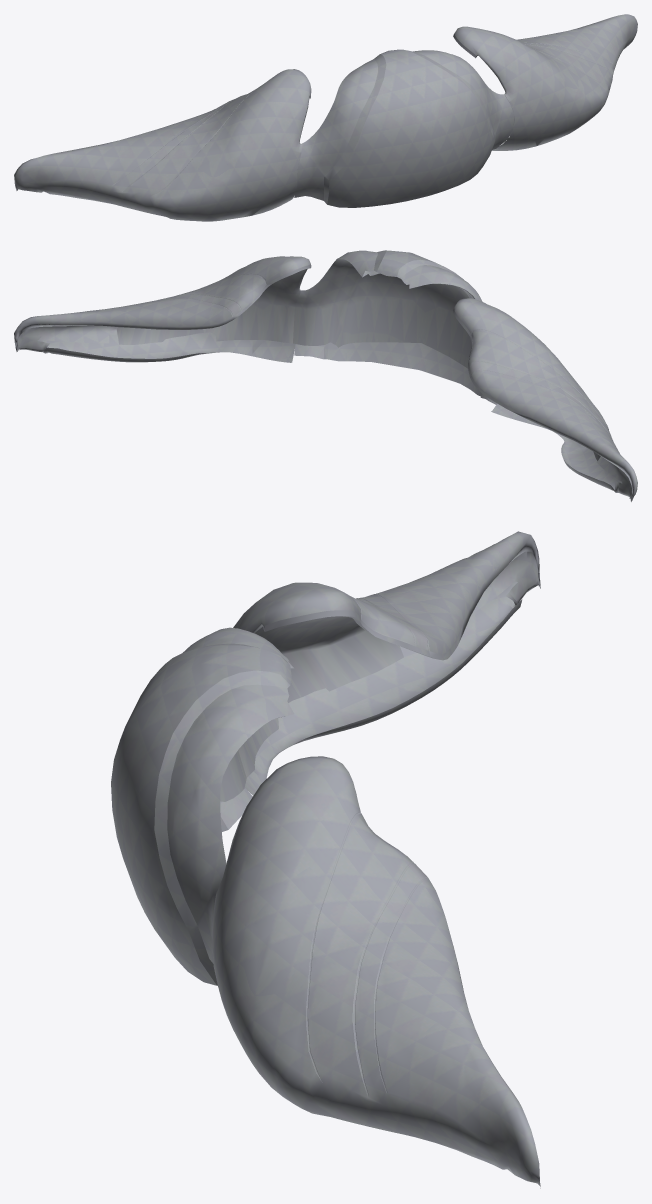
Rendered from pref_sm_beach_bk_winter_pointmol_topbuild02_lv2.fbx.
3 views of the same model, one above another, from view 1: azimuth 30°, elevation 25°; view 2: azimuth 150°, elevation 25°; view 3: azimuth 270°, elevation 25° (orthographic). The views are drawn at different scales.
Visible parts, largest first — view 1: sm_beach_bk_winter_pointmol_topbuild02a_lv2; view 2: sm_beach_bk_winter_pointmol_topbuild02a_lv2; view 3: sm_beach_bk_winter_pointmol_topbuild02a_lv2.
Part boxes in pixels (<box>): sm_beach_bk_winter_pointmol_topbuild02a_lv2: <box>14,14,637,221</box>; sm_beach_bk_winter_pointmol_topbuild02a_lv2: <box>14,250,637,501</box>; sm_beach_bk_winter_pointmol_topbuild02a_lv2: <box>111,531,540,1188</box>.
Bounding box in the file's own units: 157 × 31.81 × 46.99.
1 material, 1 textured.
